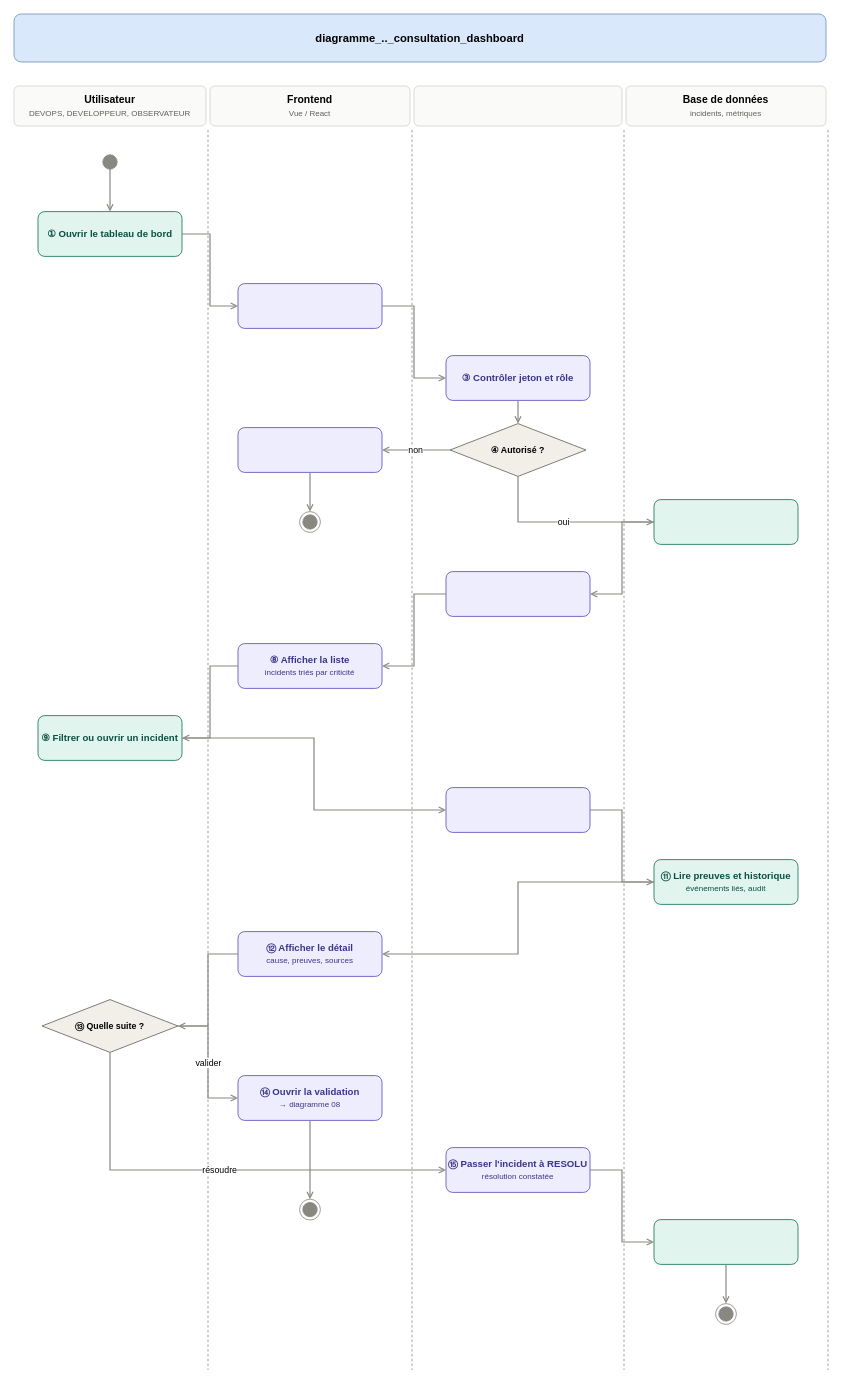
The diagram is 843 pixels wide and 1385 high, and some of its shapes have lost their labels. Each missing label, with the centre of its shape:
Backend API Laravel: the point at 517,105
② Appeler l'API avec le jeton: the point at 309,305
⑤ Afficher accès refusé: the point at 309,449
⑥ Lire incidents et métriques criticité, état des composants: the point at 725,521
⑦ Agréger les données criticité + notifications: the point at 517,593
⑩ Charger le détail diagnostic, sources RAG: the point at 517,809
⑯ Enregistrer et journaliser → diagramme 11: the point at 725,1241
